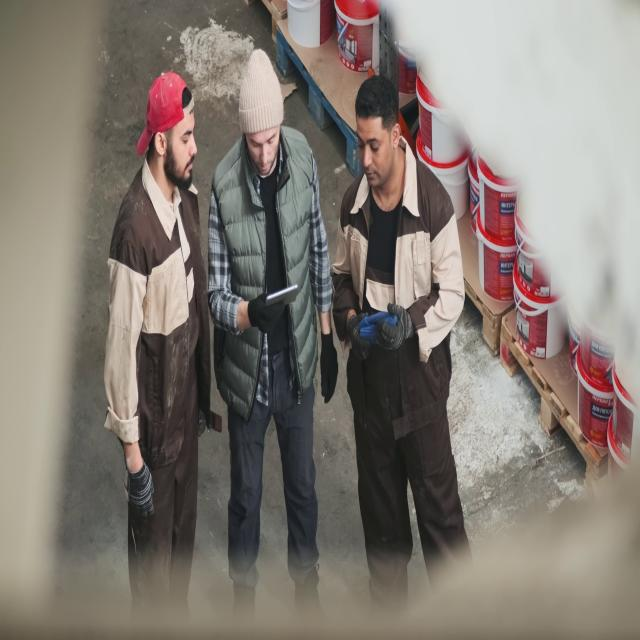gloved: (376, 302, 414, 350), (124, 461, 154, 521), (247, 292, 285, 334), (320, 328, 338, 403), (347, 312, 371, 362)
